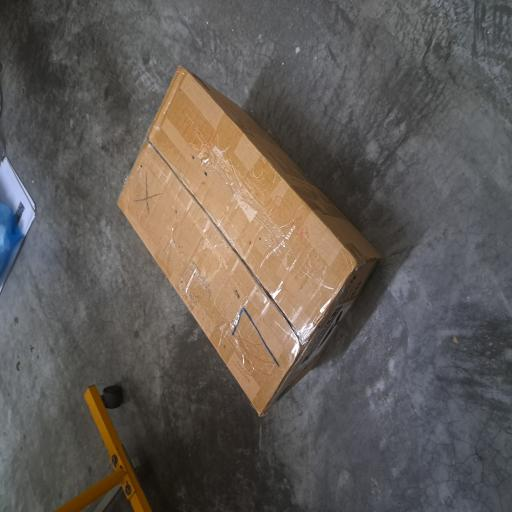cardboard: (72, 156, 334, 510)
